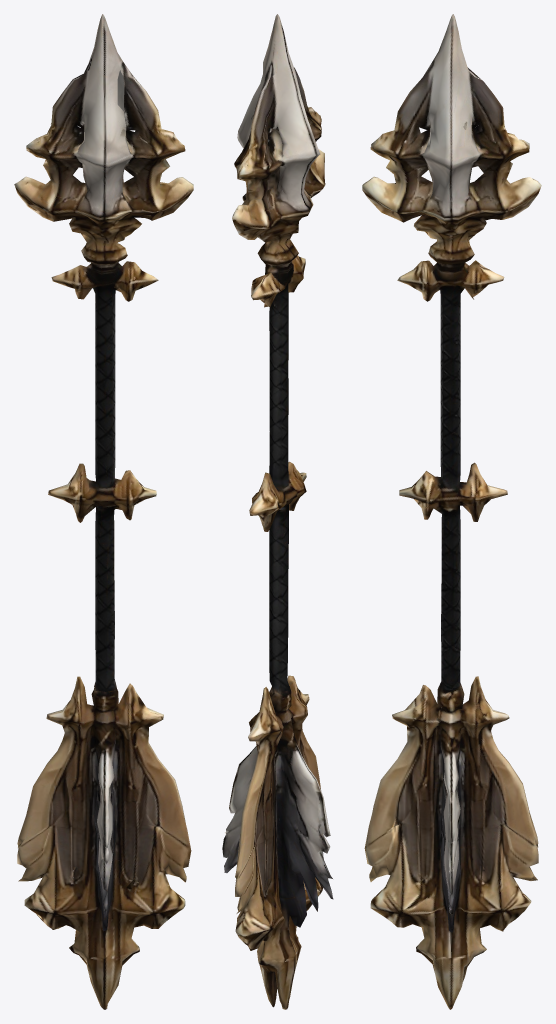
3 views of the same model, side by side, from view 1: azimuth 90°, elevation 25°; view 2: azimuth 150°, elevation 25°; view 3: azimuth 270°, elevation 25° (orthographic).
Parts seen in each view (by area): view 1: tripo_node_1591ac8d-90fc-473e-9f4f-ae0717d90526; view 2: tripo_node_1591ac8d-90fc-473e-9f4f-ae0717d90526; view 3: tripo_node_1591ac8d-90fc-473e-9f4f-ae0717d90526.
Part boxes in pixels (bbox=[...]): tripo_node_1591ac8d-90fc-473e-9f4f-ae0717d90526: bbox=[14, 14, 193, 1009]; tripo_node_1591ac8d-90fc-473e-9f4f-ae0717d90526: bbox=[222, 14, 333, 1009]; tripo_node_1591ac8d-90fc-473e-9f4f-ae0717d90526: bbox=[362, 14, 541, 1009].
Size of the model in its own units: 0.1146 by 0.9823 by 0.161.
Materials: 1 (1 with a texture image).
